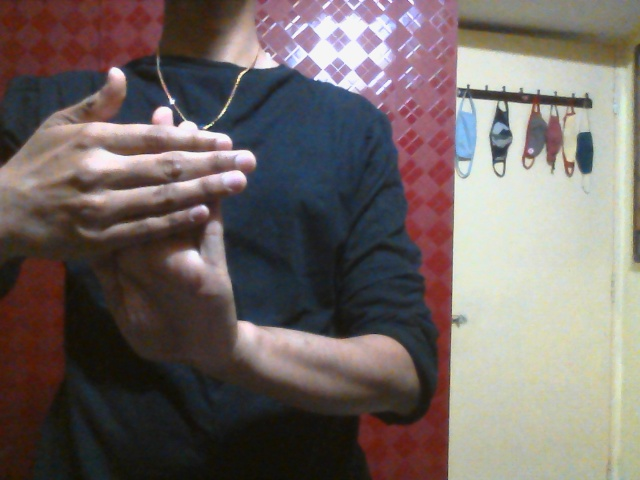H: (21, 64, 258, 367)
